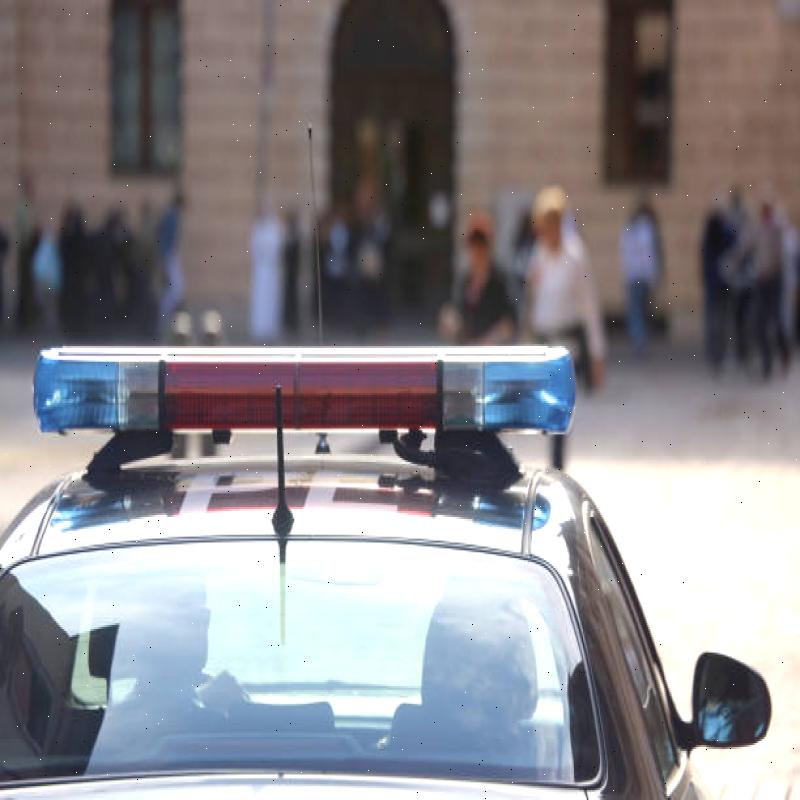AmbulanceSiren: (29, 313, 592, 499)
